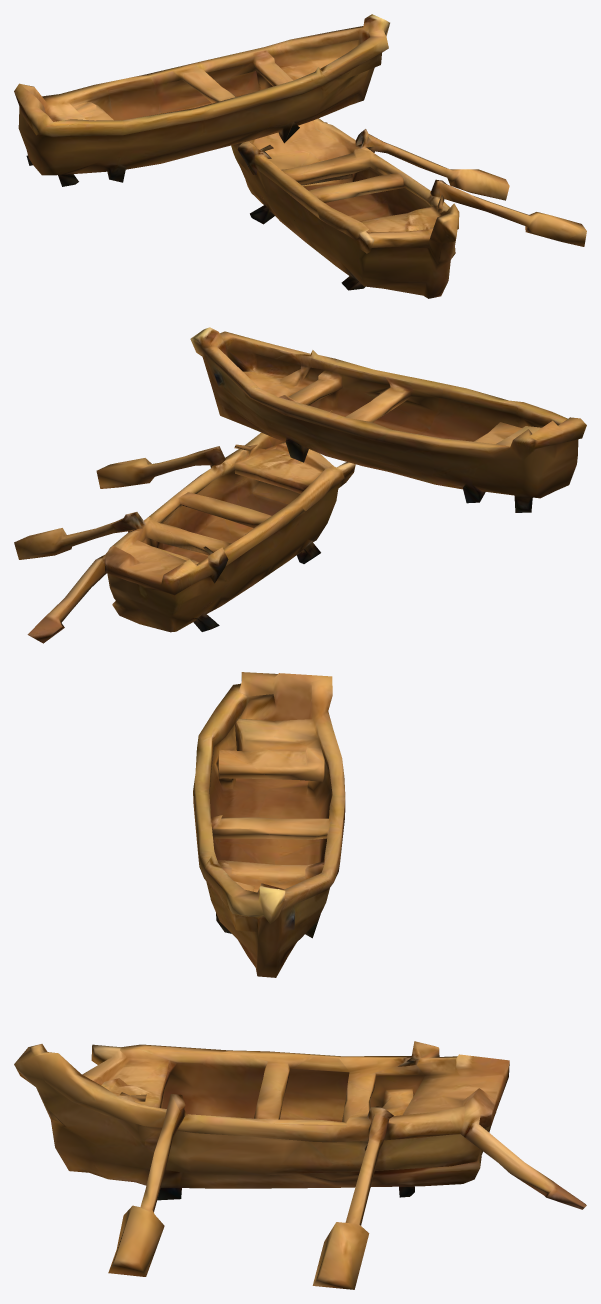
Rendered from barco.glb.
3 renders of one model, top to bottom at view 1: azimuth 30°, elevation 25°; view 2: azimuth 150°, elevation 25°; view 3: azimuth 270°, elevation 25°, orthographic. The views are drawn at different scales.
Parts seen in each view (by area): view 1: tripo_node_582c6bf7-cc7a-4ed0-80f5-074d255e3734; view 2: tripo_node_582c6bf7-cc7a-4ed0-80f5-074d255e3734; view 3: tripo_node_582c6bf7-cc7a-4ed0-80f5-074d255e3734.
Part boxes in pixels (left/top/right/bottom): tripo_node_582c6bf7-cc7a-4ed0-80f5-074d255e3734: left=14, top=14, right=586, bottom=298; tripo_node_582c6bf7-cc7a-4ed0-80f5-074d255e3734: left=14, top=327, right=586, bottom=643; tripo_node_582c6bf7-cc7a-4ed0-80f5-074d255e3734: left=14, top=672, right=586, bottom=1289.
Size of the model in its own units: 1 by 0.4369 by 0.734.
1 material, 1 textured.
